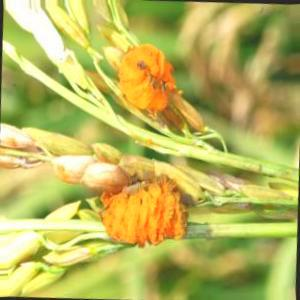Leaf_Scald: (108, 187, 194, 242), (109, 51, 180, 115)
